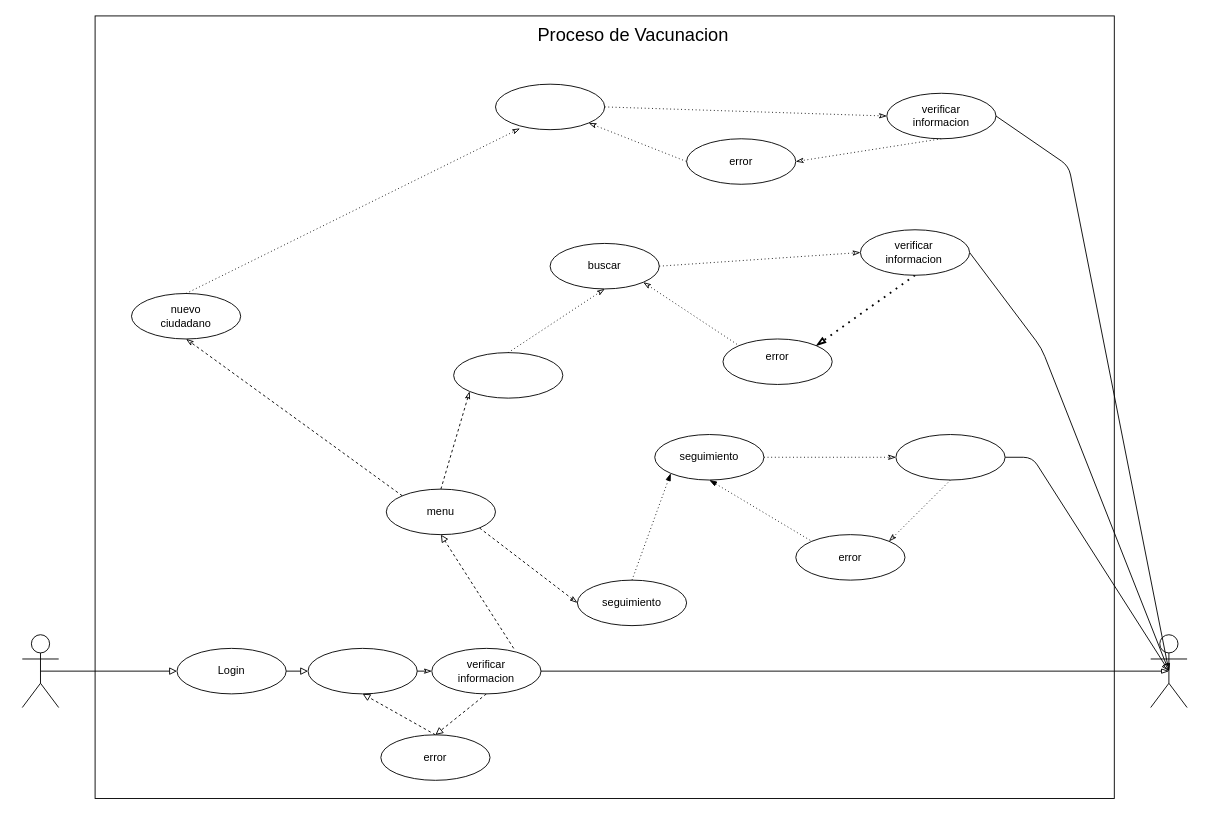
This 1221x814 diagram has some shape labels left out. Here are the shapes that lost their labels. From the top down, the centre of each, then its label:
At (550,106): "registrar al nuevo ciudadano".
At (508,375): "verificar registros".
At (950,457): "veriicar informacion".
At (40,671): "Empleado".
At (362,670): "ingresar informacion".
At (1168,671): "bases de datos".
